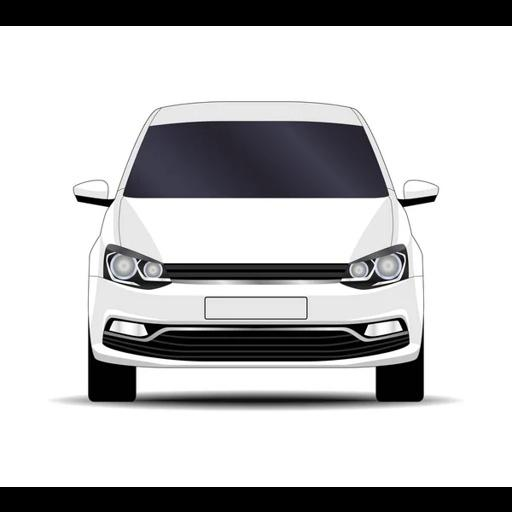hatchback: (74, 102, 437, 400)
